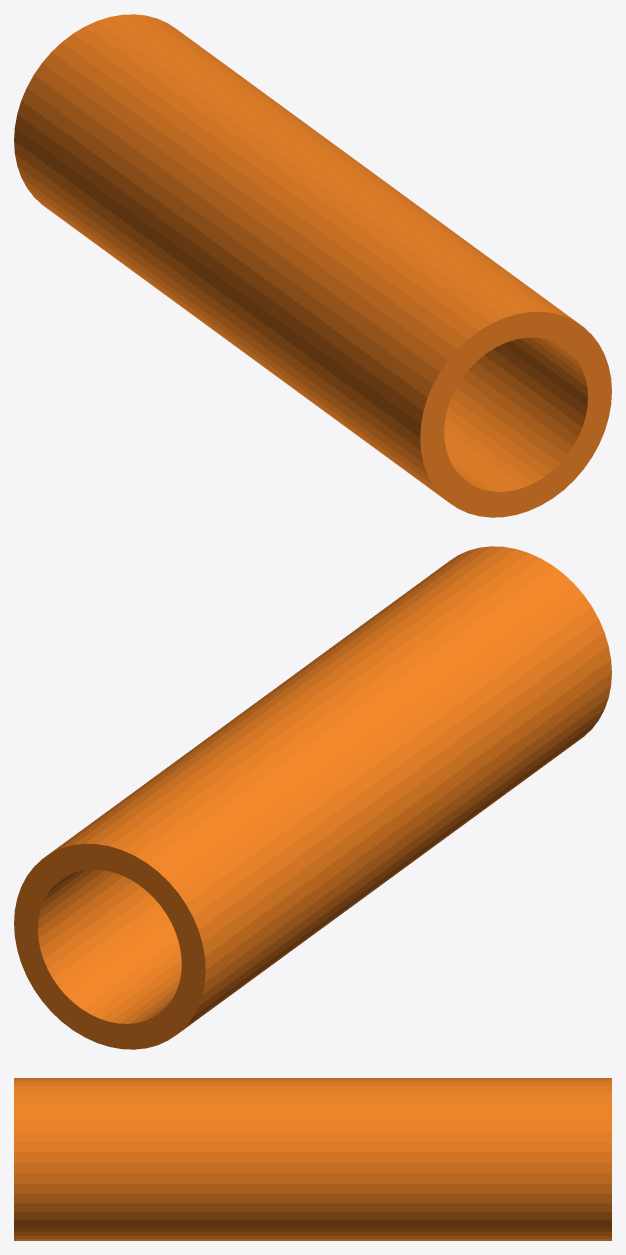
Rendered from dc_motor_test_3.obj.
The picture shows the model from 3 angles, top to bottom: view 1: azimuth 30°, elevation 25°; view 2: azimuth 150°, elevation 25°; view 3: azimuth 270°, elevation 25°; orthographic projection. The views are drawn at different scales.
Parts seen in each view (by area): view 1: obj_0; view 2: obj_0; view 3: obj_0.
Boxes of the visible parts, x1,y1,x2,y2 form: obj_0: [14, 14, 611, 517]; obj_0: [14, 546, 611, 1049]; obj_0: [14, 1078, 611, 1240].
Size of the model in its own units: 2.92 by 2.92 by 10.72.
